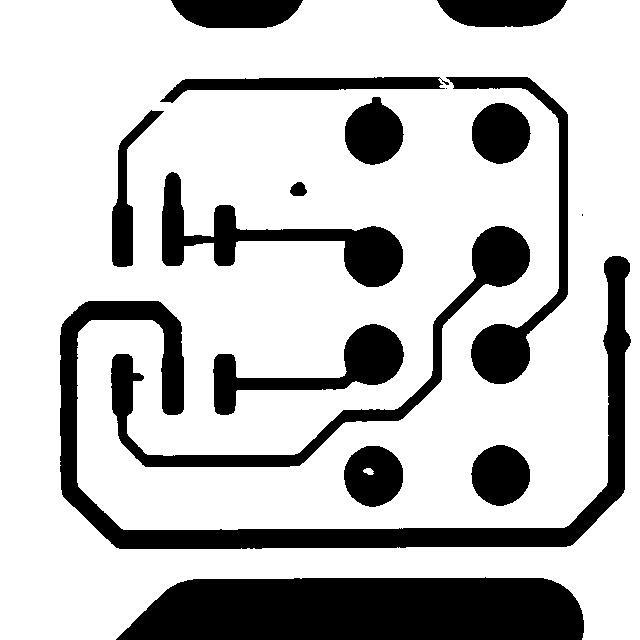copper: (280, 172, 316, 205)
open: (139, 92, 185, 121), (428, 64, 463, 98)
pin-hole: (353, 458, 383, 484)
short: (164, 224, 229, 255)
spur: (362, 87, 396, 121), (120, 363, 153, 390)
